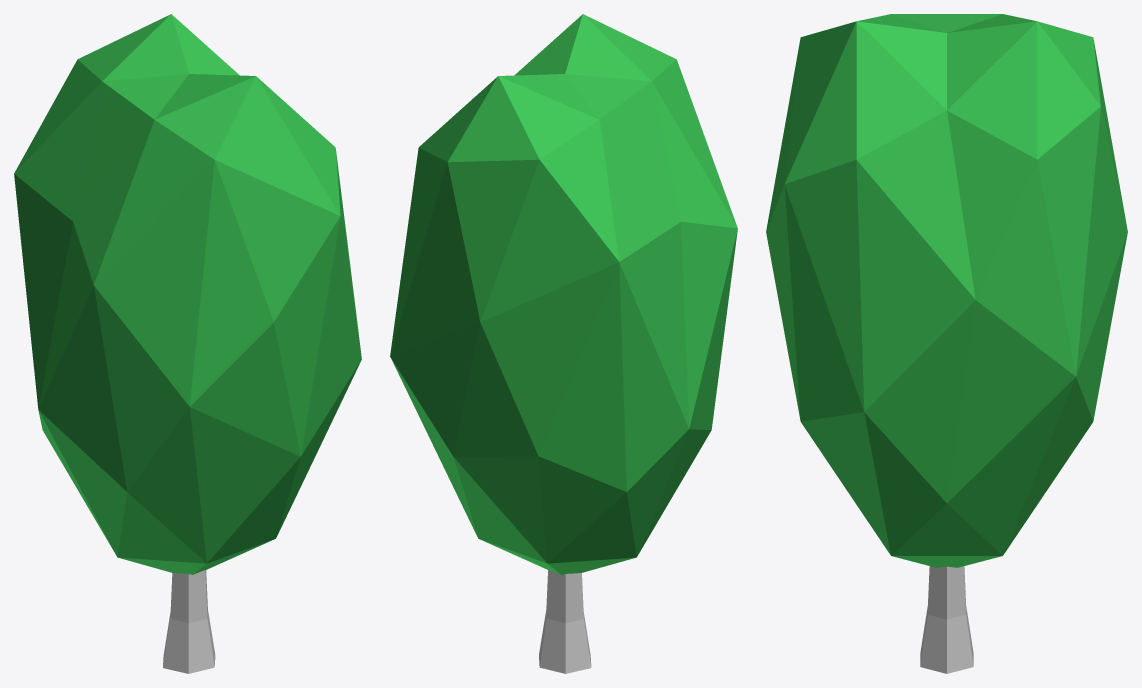
The model's file is tree_3.fbx.
3 views of the same model, side by side, from view 1: azimuth 30°, elevation 25°; view 2: azimuth 150°, elevation 25°; view 3: azimuth 270°, elevation 25° (orthographic). The views are drawn at different scales.
Parts seen in each view (by area): view 1: bark.000; view 2: bark.000; view 3: bark.000.
Boxes of the visible parts, <box> form: bark.000: <box>14,14,361,673</box>; bark.000: <box>390,14,737,673</box>; bark.000: <box>766,14,1127,673</box>.
Size of the model in its own units: 748 by 1588 by 799.
